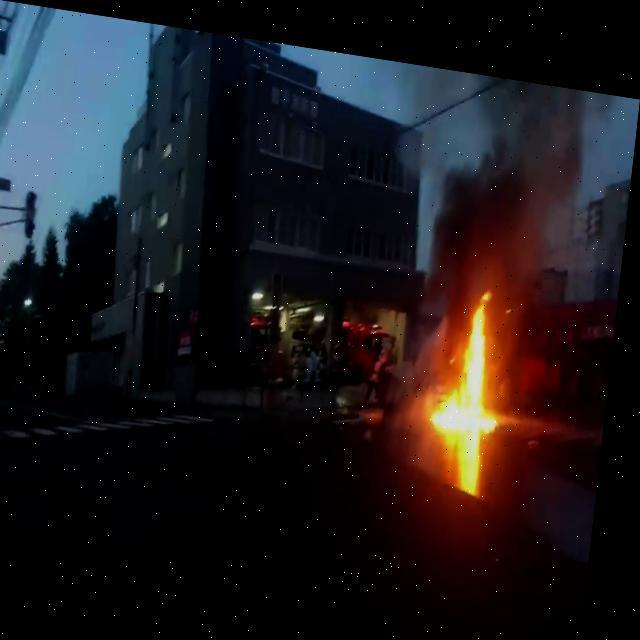Fire: (439, 270, 516, 422)
